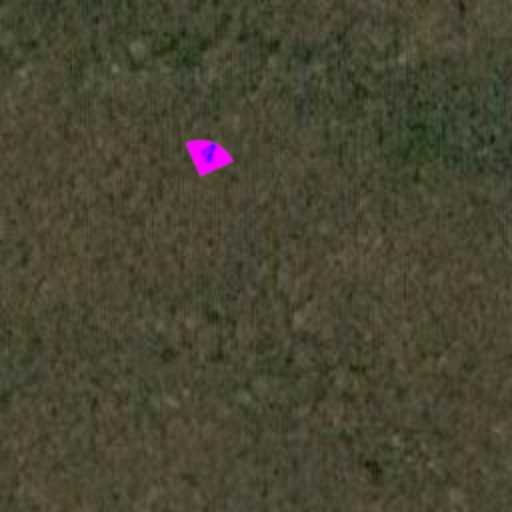quarter_circle: (176, 124, 240, 188)
